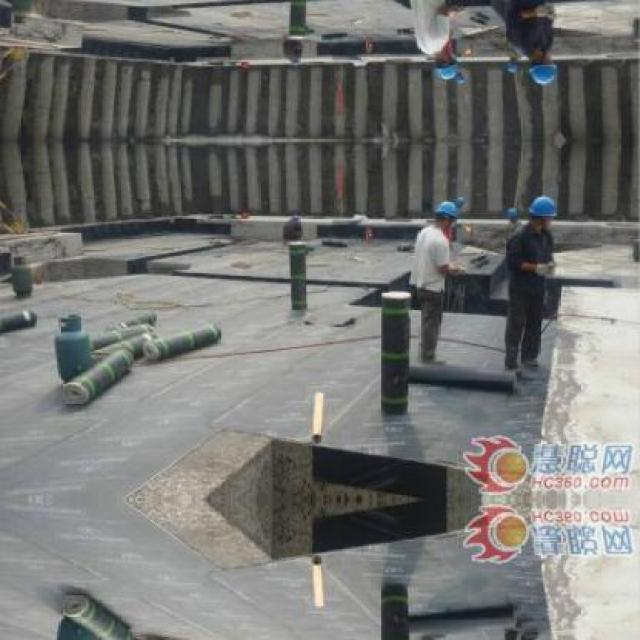helmet: (524, 191, 558, 227), (524, 53, 558, 89), (431, 50, 462, 84), (431, 197, 462, 230), (508, 207, 520, 226), (508, 54, 520, 72)
